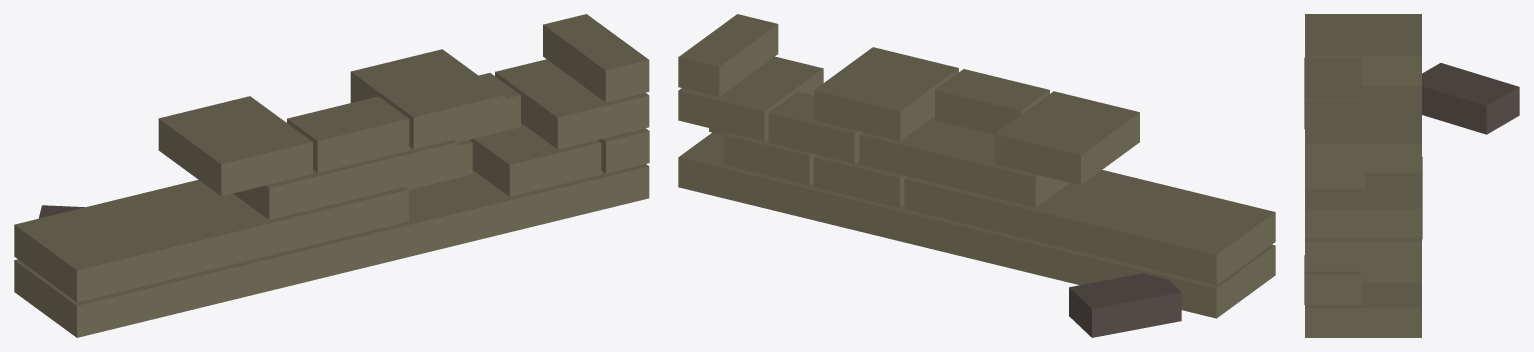
Rendered from SM_PretilTramo_v0_Recto_e1_Danado_LOD1.fbx.
3 views of the same model, side by side, from view 1: azimuth 30°, elevation 25°; view 2: azimuth 150°, elevation 25°; view 3: azimuth 270°, elevation 25° (orthographic). The views are drawn at different scales.
Parts seen in each view (by area): view 1: SM_pretil_azotea_v1_LOD1; view 2: SM_pretil_azotea_v1_LOD1; view 3: SM_pretil_azotea_v1_LOD1.
Part boxes in pixels (x1,y1,x2,y2): SM_pretil_azotea_v1_LOD1: (14,14,649,337); SM_pretil_azotea_v1_LOD1: (678,14,1275,337); SM_pretil_azotea_v1_LOD1: (1304,14,1519,337).
Size of the model in its own units: 5.06 by 1.18 by 1.77.
